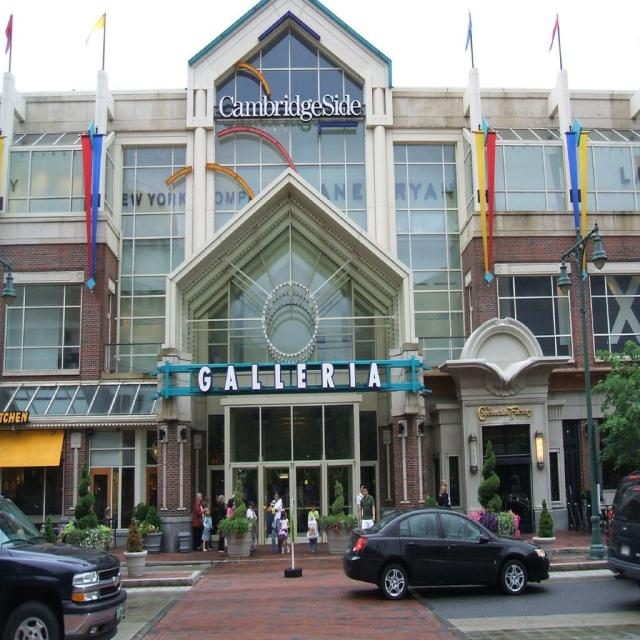car: (348, 507, 543, 601)
